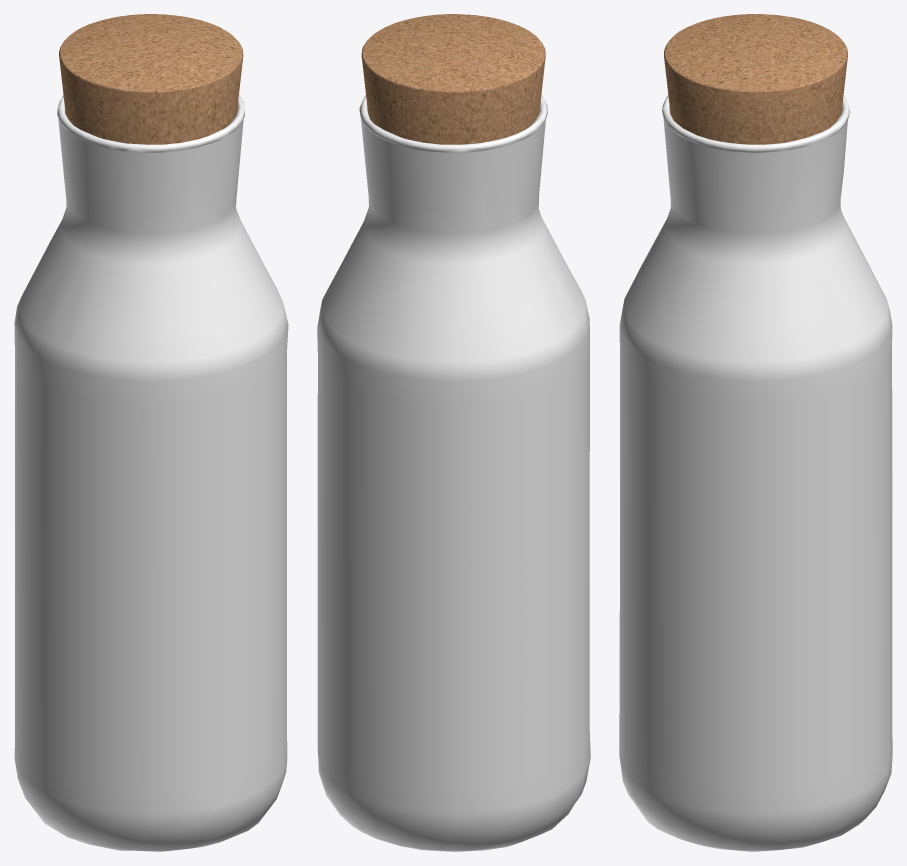
File: ikea_365_karafka_z_korkiem_90279719.glb
3 views of the same model, side by side, from view 1: azimuth 30°, elevation 25°; view 2: azimuth 150°, elevation 25°; view 3: azimuth 270°, elevation 25° (orthographic).
Parts seen in each view (by area): view 1: ikea_365_karafka_z_korkiem_90279719; view 2: ikea_365_karafka_z_korkiem_90279719; view 3: ikea_365_karafka_z_korkiem_90279719.
Boxes of the visible parts, box(x1,y1,x2,y2) form: ikea_365_karafka_z_korkiem_90279719: box(14, 14, 288, 851); ikea_365_karafka_z_korkiem_90279719: box(317, 14, 590, 851); ikea_365_karafka_z_korkiem_90279719: box(619, 14, 892, 851).
Size of the model in its own units: 0.0906 by 0.2784 by 0.0905.
Materials: 2 (2 with a texture image).
